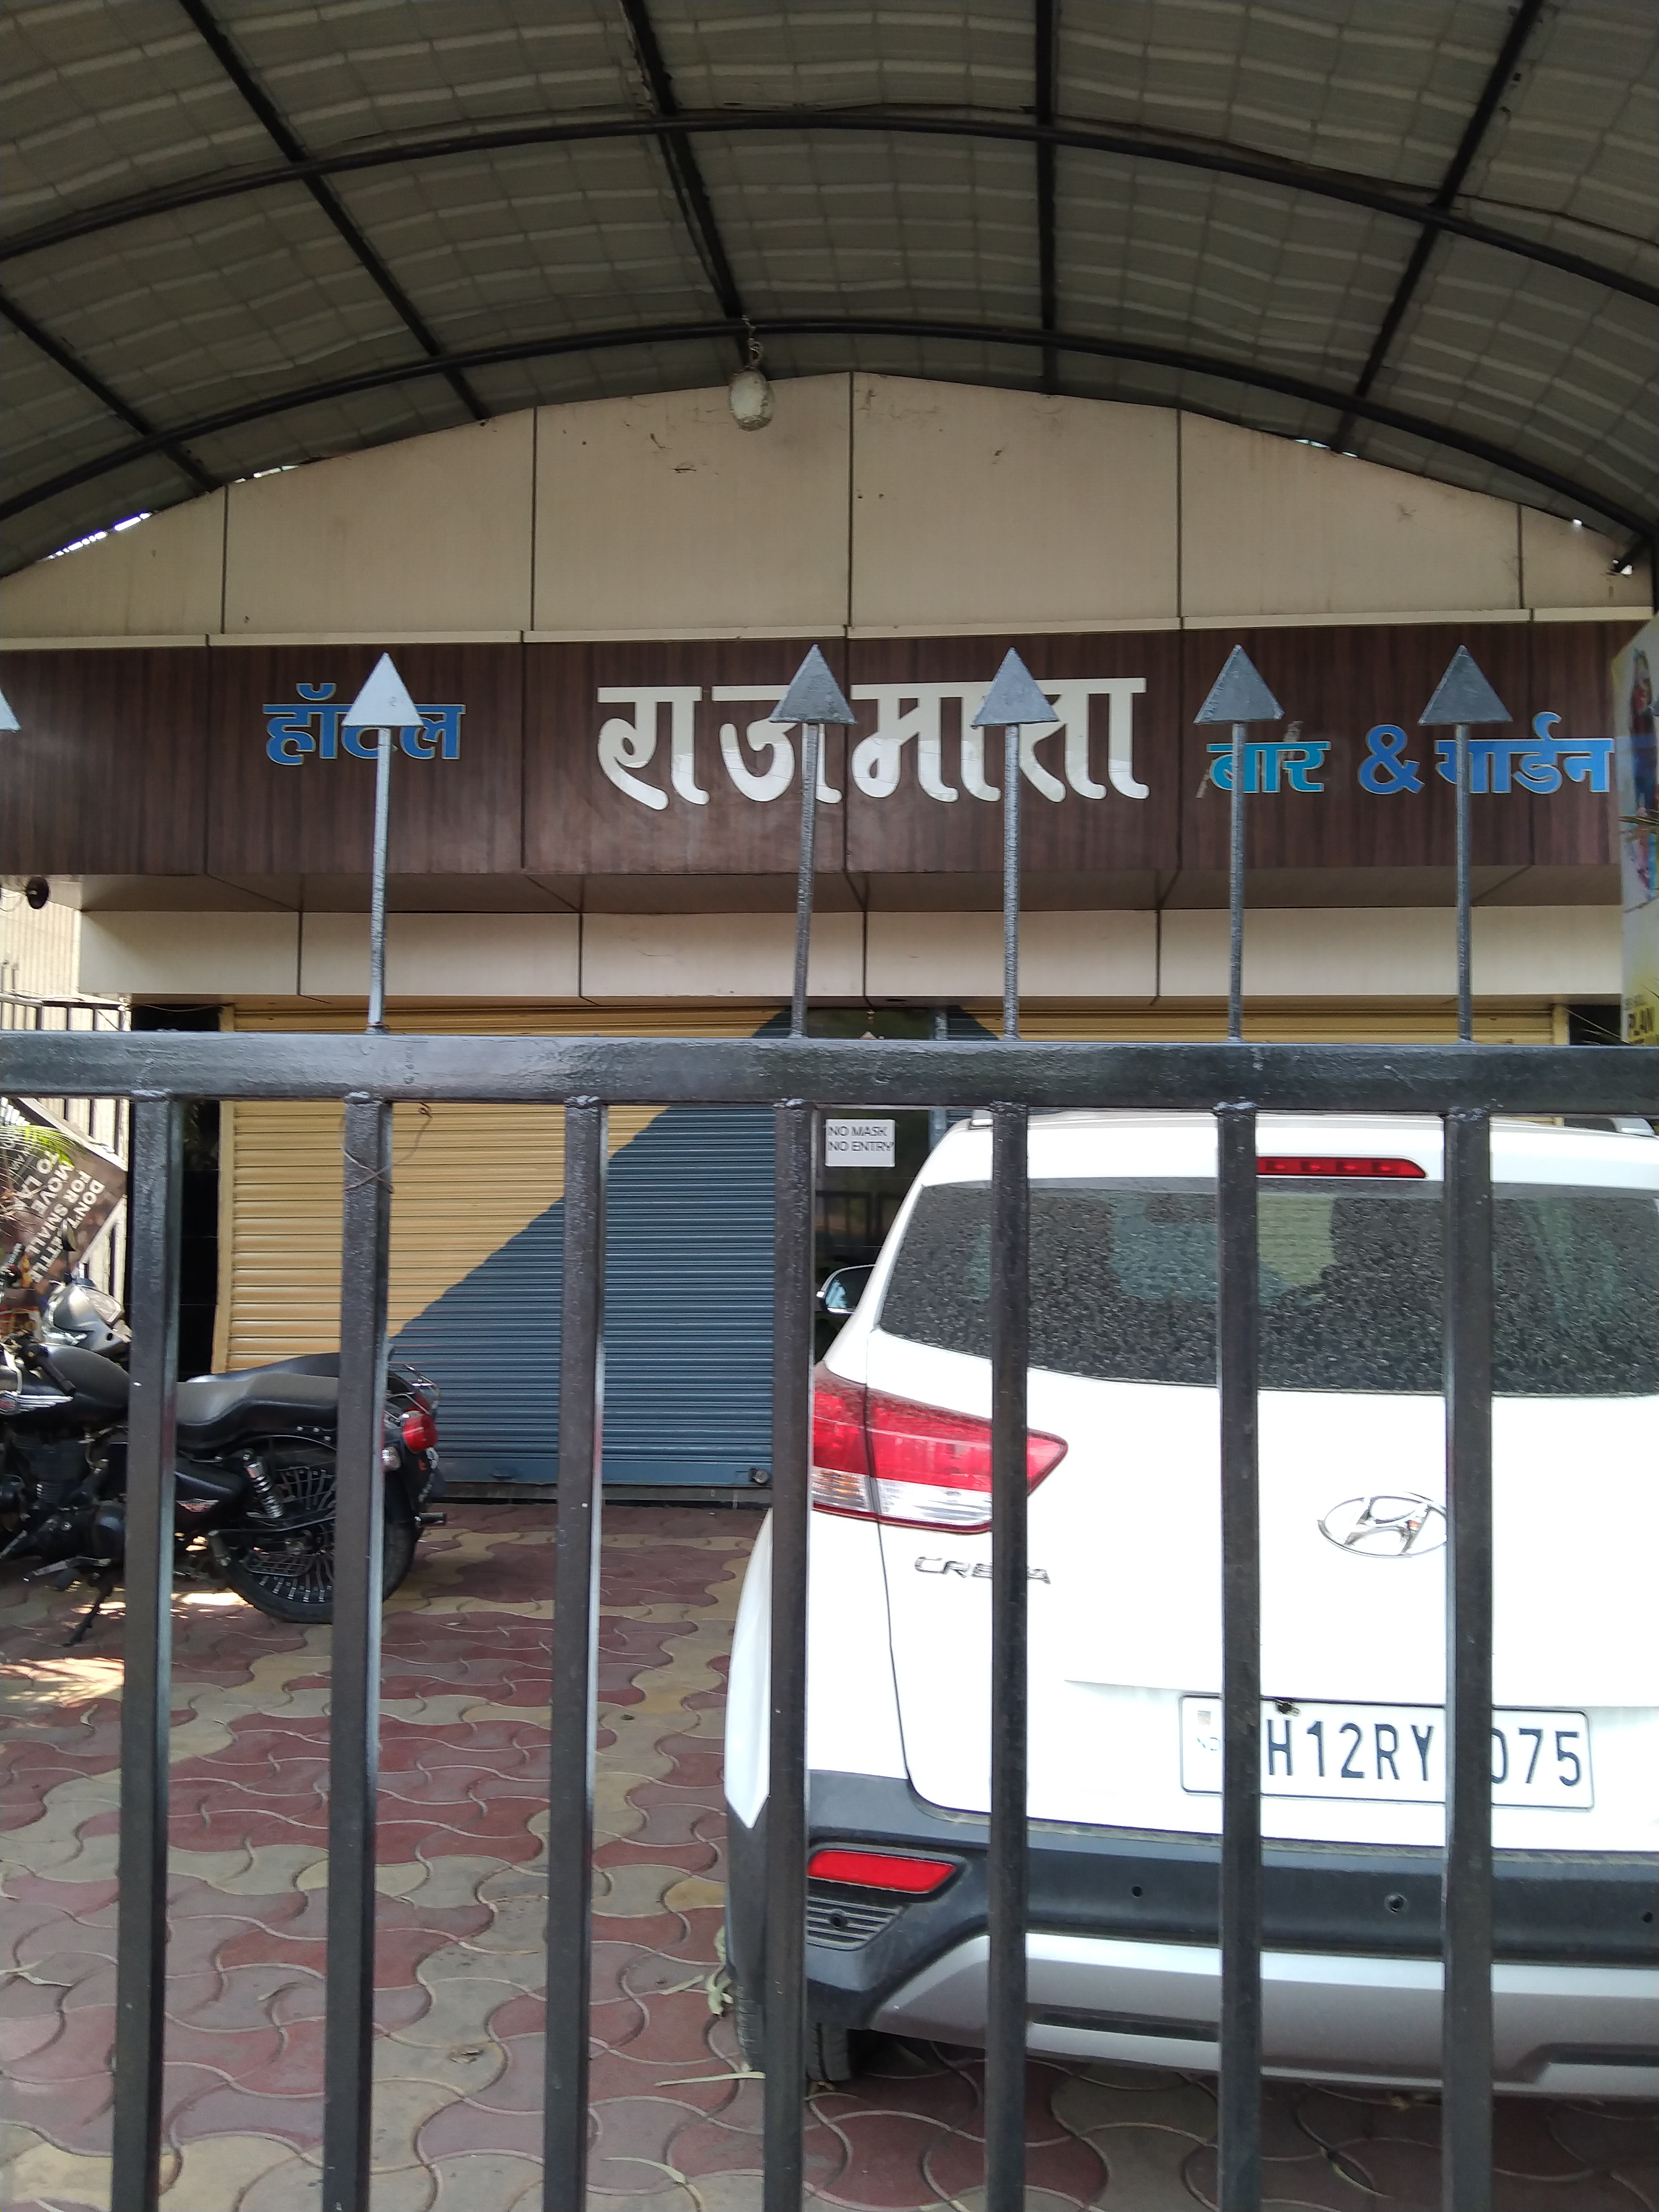text: (0, 641, 1659, 883)
